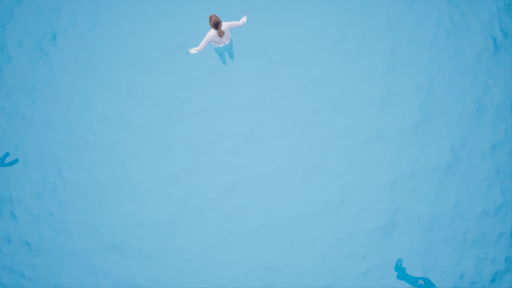person: (187, 12, 250, 67)
